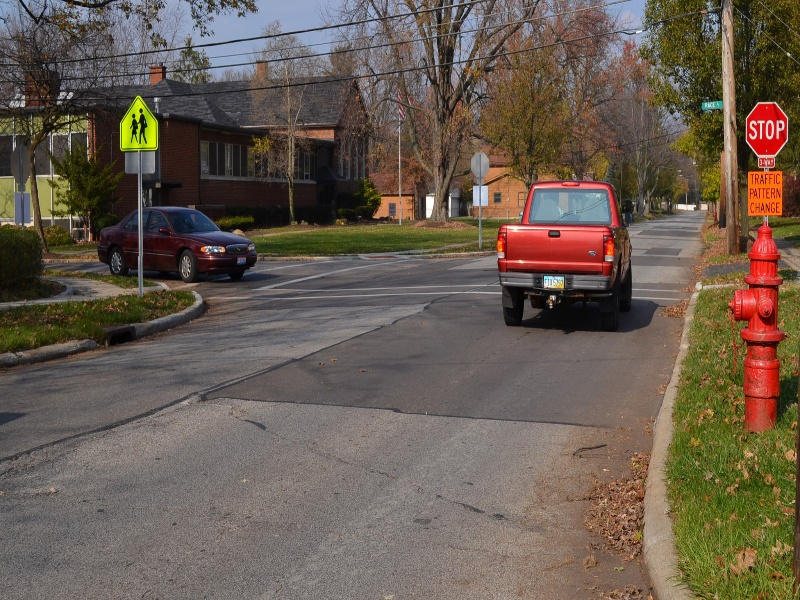stop sign: (741, 100, 792, 157)
